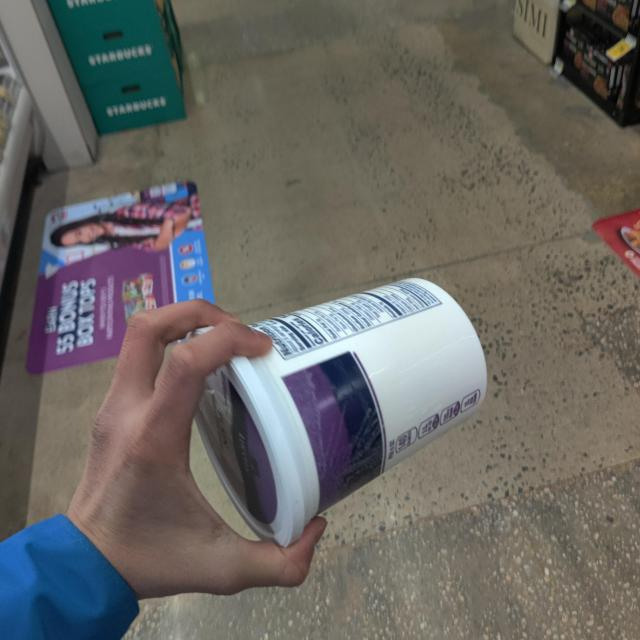Yogurt: (176, 265, 537, 550)
